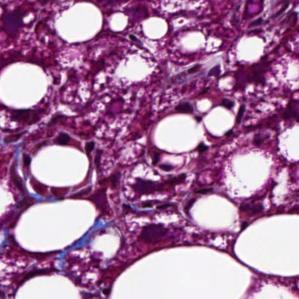inflammation: (125, 168, 194, 201), (170, 96, 206, 127), (216, 94, 249, 118)
